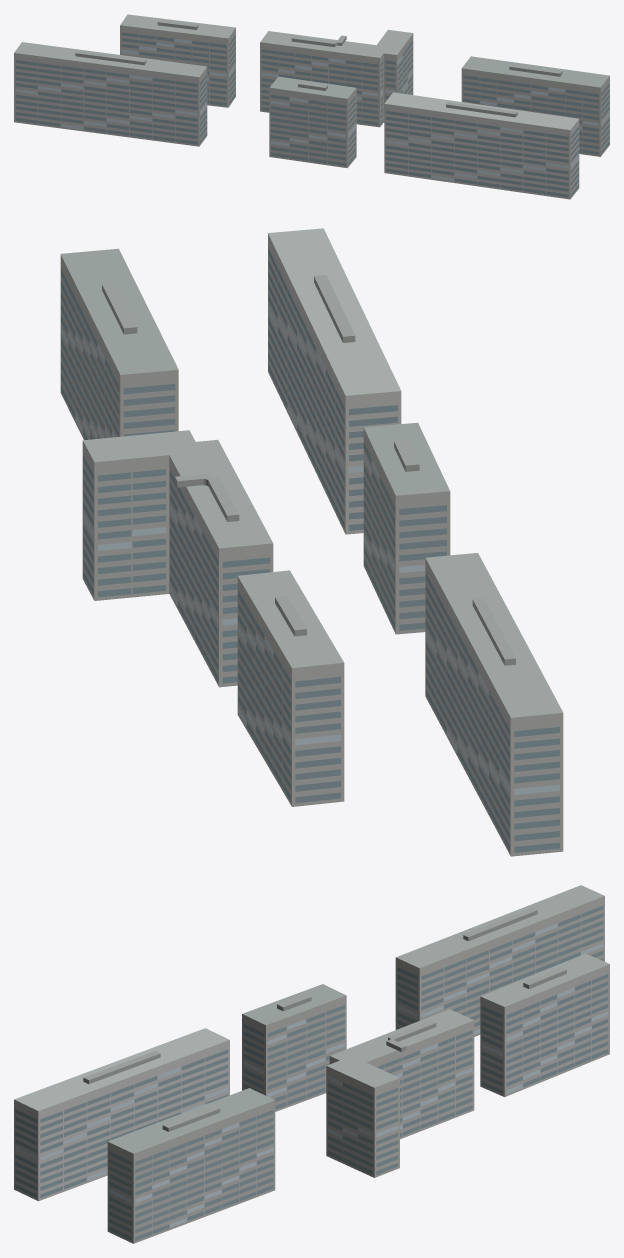
Rendered from apt-a14085002.glb.
3 renders of one model, top to bottom at view 1: azimuth 30°, elevation 25°; view 2: azimuth 150°, elevation 25°; view 3: azimuth 270°, elevation 25°, orthographic. The views are drawn at different scales.
Parts seen in each view (by area): view 1: apt-a14085002; view 2: apt-a14085002; view 3: apt-a14085002.
Part boxes in pixels (<box>): apt-a14085002: <box>14,14,609,199</box>; apt-a14085002: <box>60,228,563,856</box>; apt-a14085002: <box>14,885,609,1243</box>.
Size of the model in its own units: 234 by 38.25 by 219.
